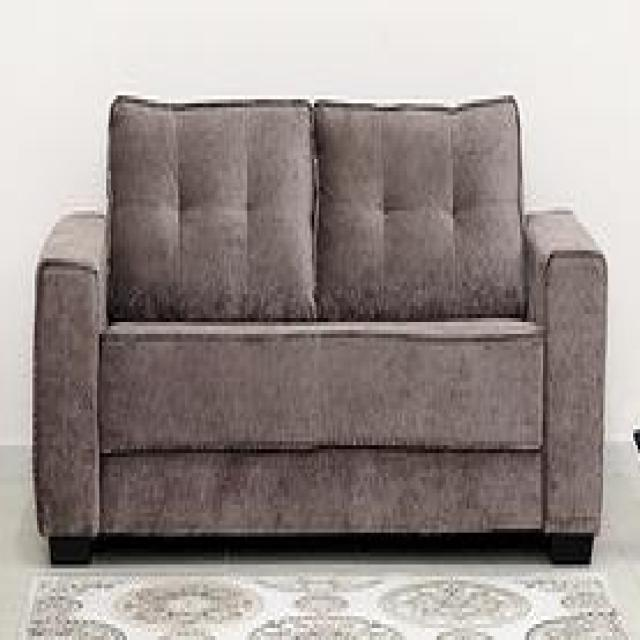sofa: (30, 91, 608, 564)
